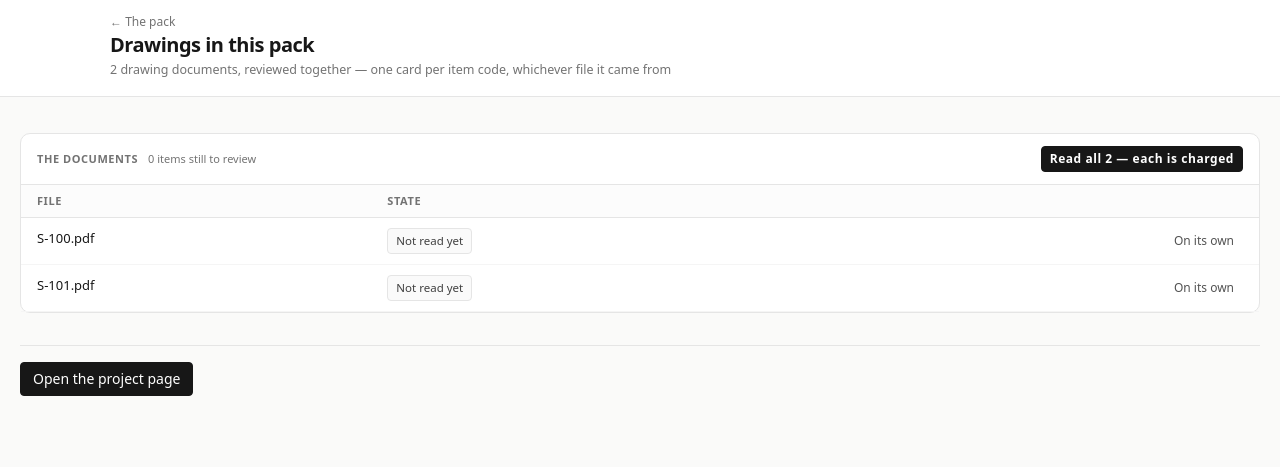
Test: the drawings step and the read cap › says only what it started when nothing was deferred
Click the button "Read all 2 — each is charged" at (1142, 159), box [1041,146,1243,172]
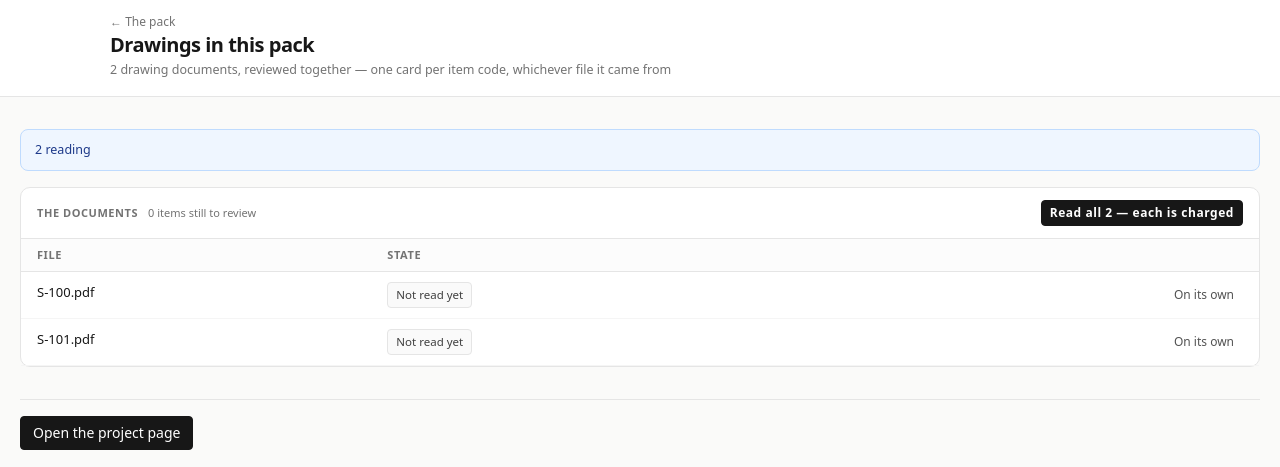
Check: the text "2 reading" is shown, box [35,141,91,158]
